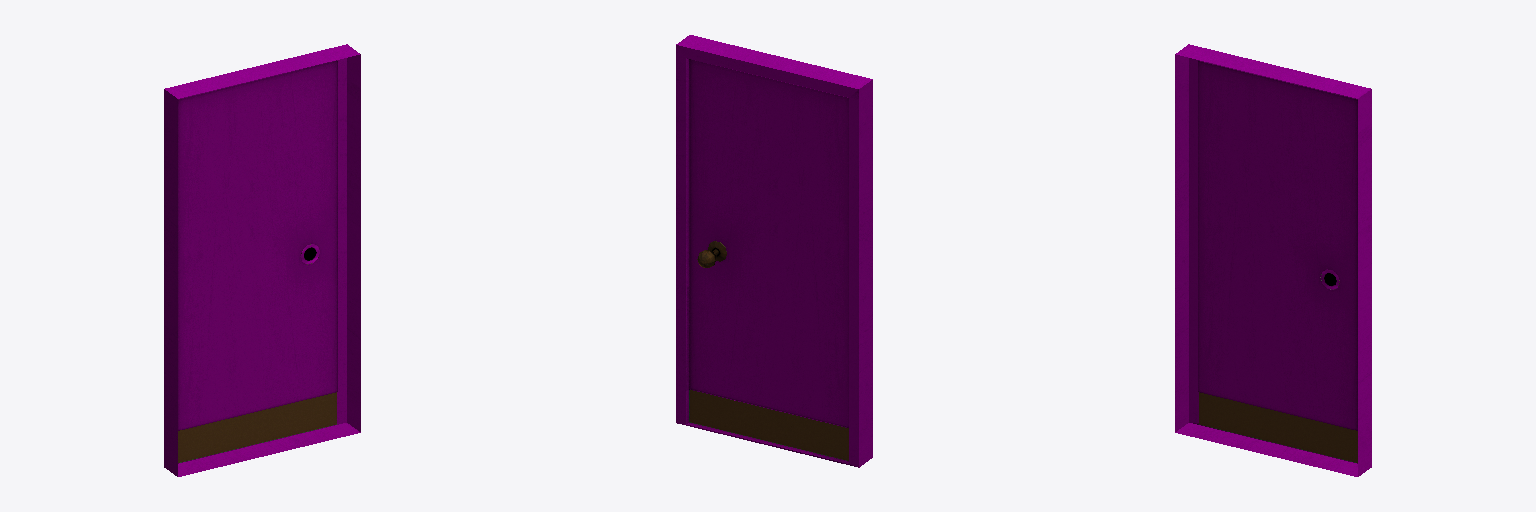
3 views of the same model, side by side, from view 1: azimuth 30°, elevation 25°; view 2: azimuth 150°, elevation 25°; view 3: azimuth 330°, elevation 25° (orthographic).
Parts seen in each view (by area): view 1: Doortall; view 2: Doortall; view 3: Doortall.
Boxes of the visible parts, x1=… form: Doortall: x1=164, y1=44, x2=360, y2=476; Doortall: x1=676, y1=35, x2=872, y2=467; Doortall: x1=1175, y1=44, x2=1371, y2=476.
Size of the model in its own units: 1.17 by 2.31 by 0.2977.
Materials: 1 (1 with a texture image).